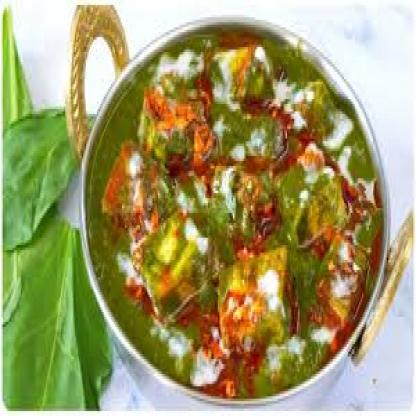palak_paneer: (86, 30, 383, 399)
